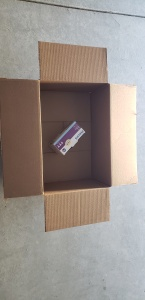innerbox: (41, 82, 112, 188)
outerbox: (1, 40, 140, 233)
product: (51, 121, 89, 157)
